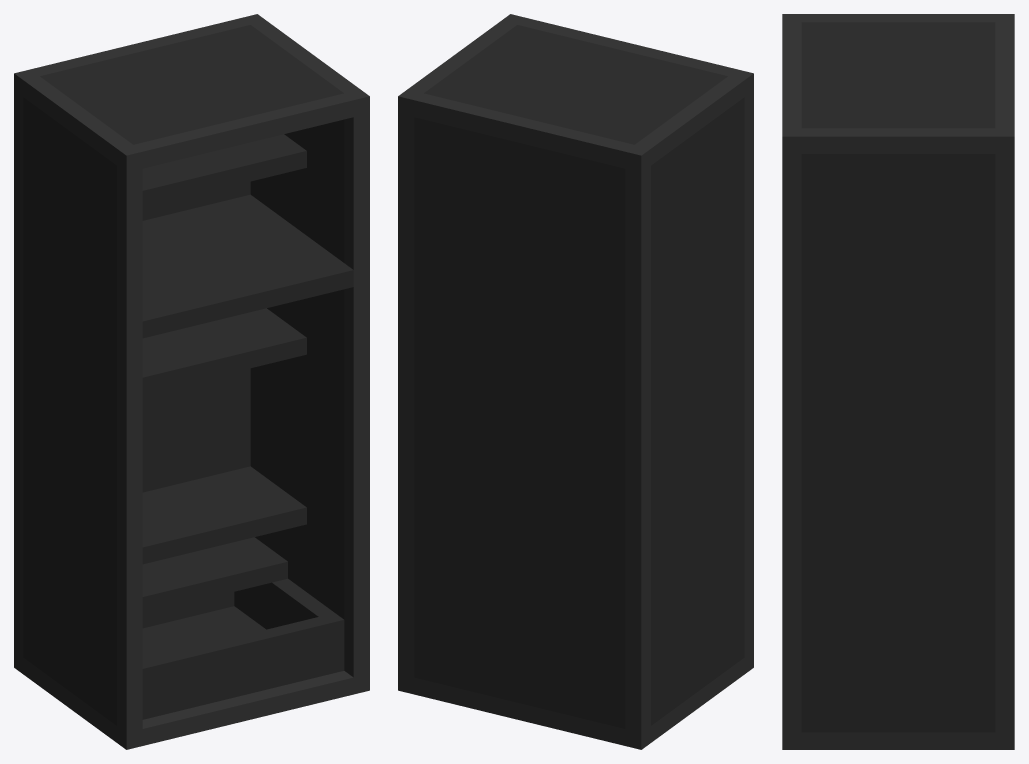
Rendered from Decor-40.obj.
3 renders of one model, left to right at view 1: azimuth 30°, elevation 25°; view 2: azimuth 150°, elevation 25°; view 3: azimuth 270°, elevation 25°, orthographic. The views are drawn at different scales.
Bounding box in the file's own units: 1.5 × 3.5 × 1.2.
1 material, 1 textured.
